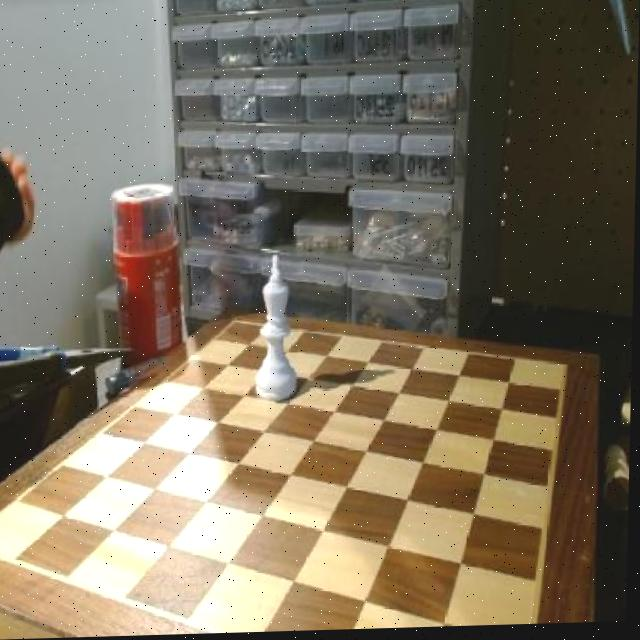white-bishop: (253, 251, 301, 405)
